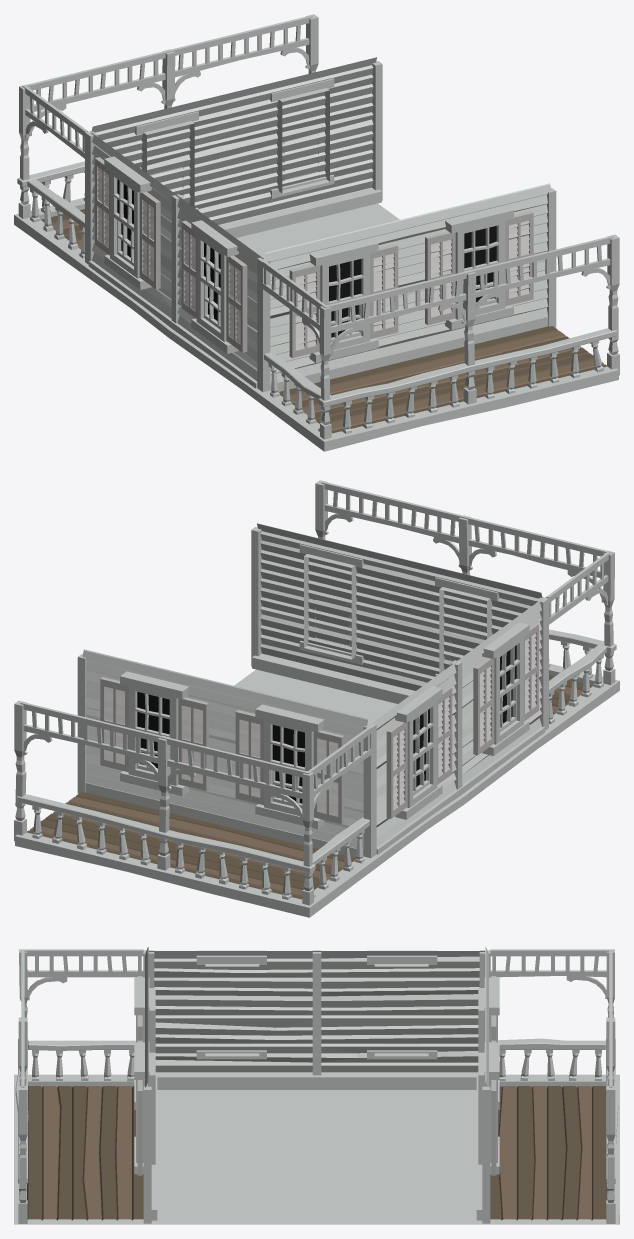
Rendered from SM_Bld_Mansion_End_02.glb.
3 renders of one model, top to bottom at view 1: azimuth 30°, elevation 25°; view 2: azimuth 150°, elevation 25°; view 3: azimuth 270°, elevation 25°, orthographic. The views are drawn at different scales.
Visible parts, largest first — view 1: SM_Bld_Mansion_End_02; view 2: SM_Bld_Mansion_End_02; view 3: SM_Bld_Mansion_End_02.
Part boxes in pixels (x1,y1,x2,y2): SM_Bld_Mansion_End_02: (14, 14, 619, 451); SM_Bld_Mansion_End_02: (14, 480, 619, 917); SM_Bld_Mansion_End_02: (14, 947, 619, 1224).
Size of the model in its own units: 0.0627 by 0.029 by 0.1118.
Materials: 1 (1 with a texture image).
